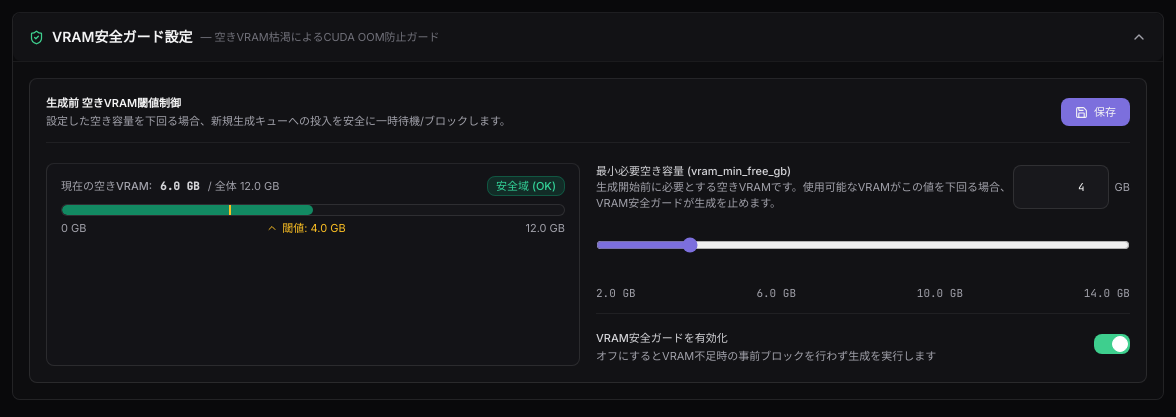
VramGuardSection › [REQ-365/AC-8] number input and slider stay in sync
Expected: the element with test id "vram-threshold-line" is shown, left=229, top=204, right=231, bottom=214
Replace the text in the number field labelled "最小必要空き容量 (vram_min_free_gb)" with "9": x=1061, y=186 left=1013, top=164, right=1109, bottom=208
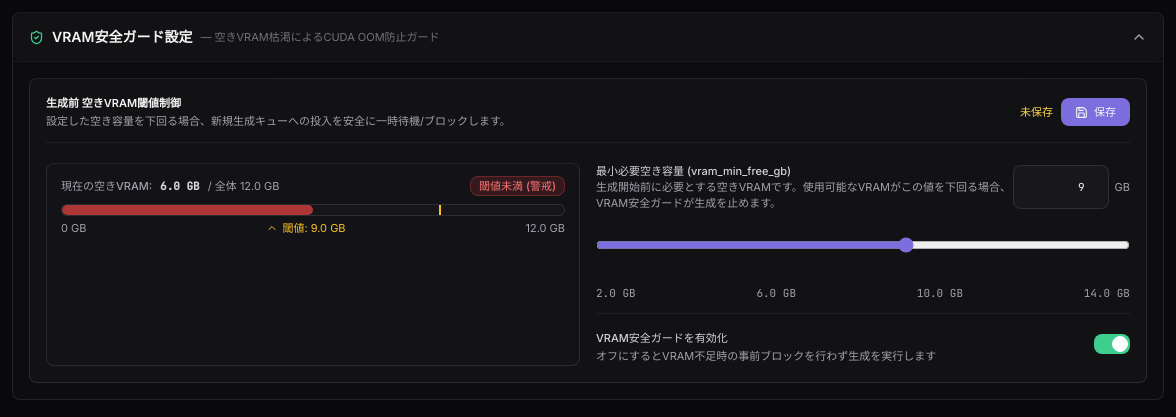
Now the slider holds "9"
Set the slider to "3": x=647, y=244 left=596, top=222, right=1130, bottom=266
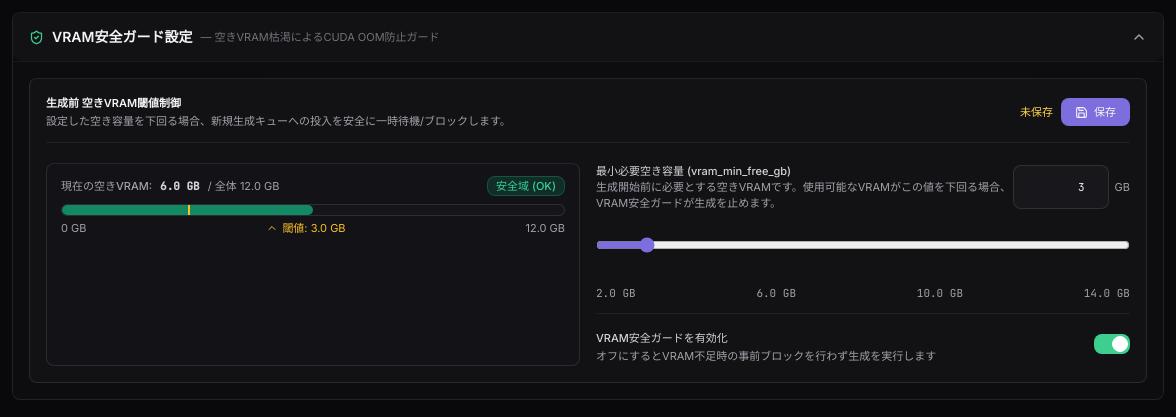
Now the number field labelled "最小必要空き容量 (vram_min_free_gb)" holds "3", box left=1013, top=164, right=1109, bottom=208
